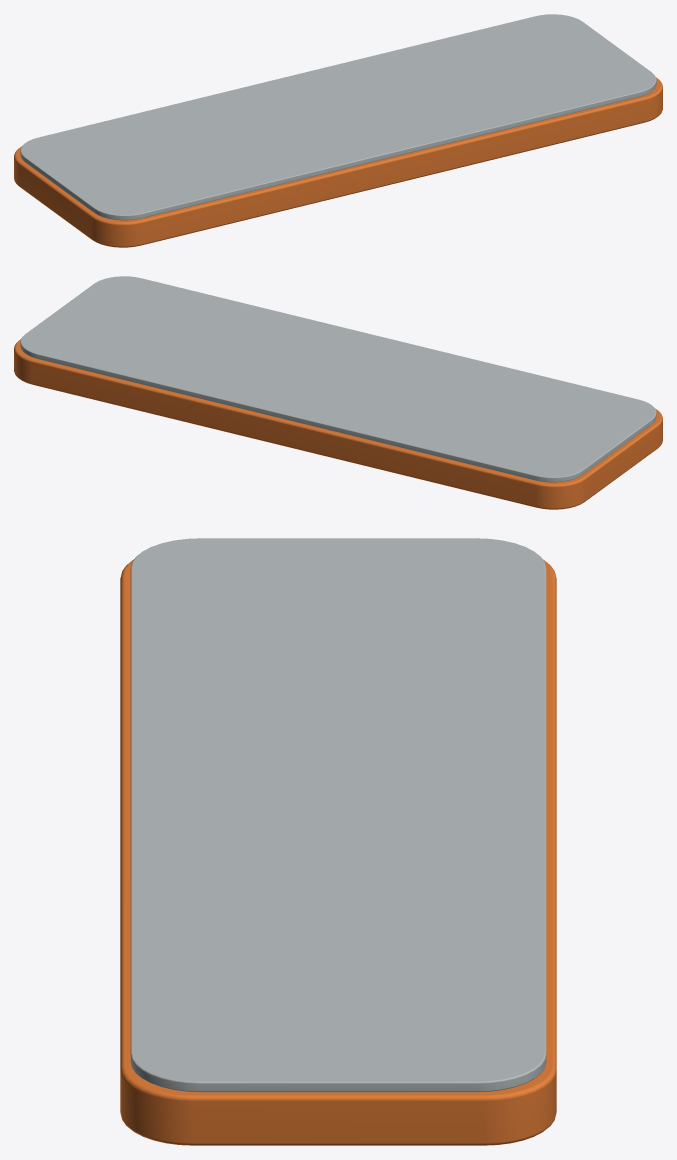
File: canopy.glb
3 renders of one model, top to bottom at view 1: azimuth 30°, elevation 25°; view 2: azimuth 150°, elevation 25°; view 3: azimuth 270°, elevation 25°, orthographic. The views are drawn at different scales.
Visible parts, largest first — view 1: canopy; view 2: canopy; view 3: canopy.
Boxes of the visible parts, left/top/right/bottom form: canopy: left=14, top=14, right=662, bottom=247; canopy: left=14, top=276, right=662, bottom=509; canopy: left=120, top=538, right=556, bottom=1145.
Bounding box in the file's own units: 4.5 × 0.23 × 1.5.
